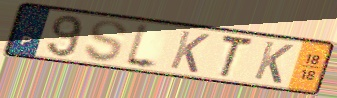9: (44, 14, 85, 59)
K: (251, 39, 296, 86), (167, 29, 212, 75)
L: (122, 20, 162, 74)
S: (82, 19, 130, 64)
T: (218, 32, 255, 81)
